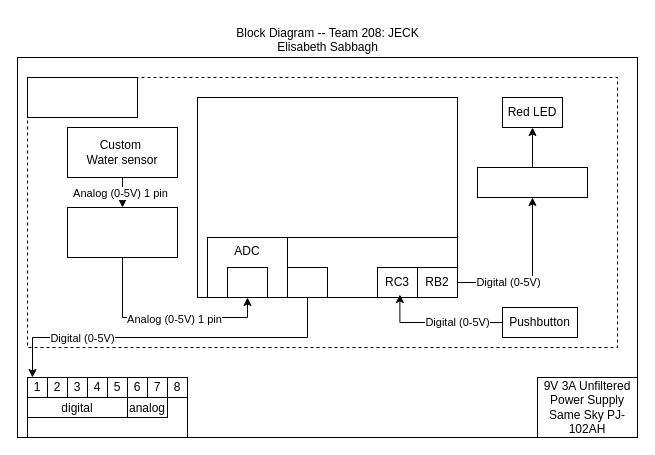
Some shapes in this 655 by 455 pixel diagram are drawn without their labels. Each missing label, with the box of its shape:
connector 1: (26, 376, 188, 438)
Digital I/O: (286, 236, 458, 298)
MCP-6004 Op-amp: (66, 206, 178, 258)
Microchip PIC18F57Q43 Curiosity Nano: (196, 96, 458, 298)
RA0: (226, 266, 268, 298)
RD3: (286, 266, 328, 298)
Resistor (250 Ohm): (476, 166, 588, 198)
Voltage regulator (5V 1.5A): (26, 76, 138, 118)
